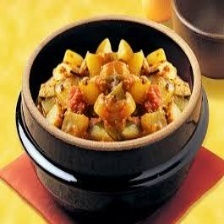sabzi: (33, 33, 195, 144)
